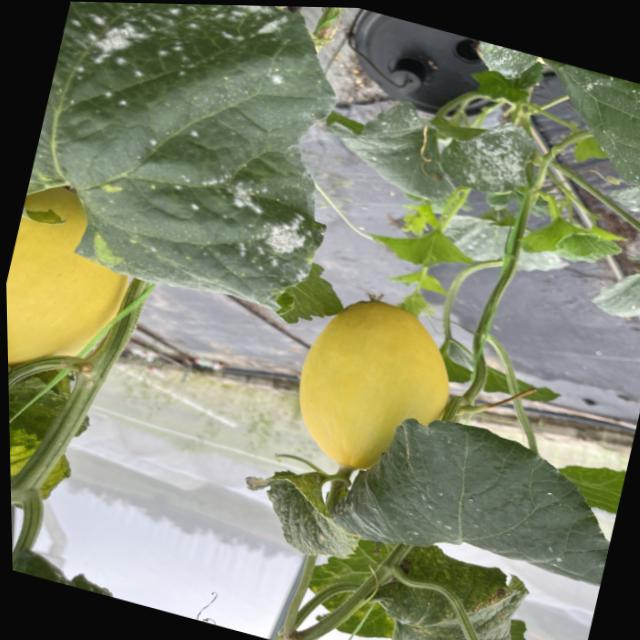SLCV: (332, 526, 548, 640), (225, 453, 373, 569)
healthy: (327, 394, 630, 610)
powdery mildew: (8, 0, 419, 340), (310, 69, 542, 227), (514, 55, 640, 199), (463, 38, 544, 86)
